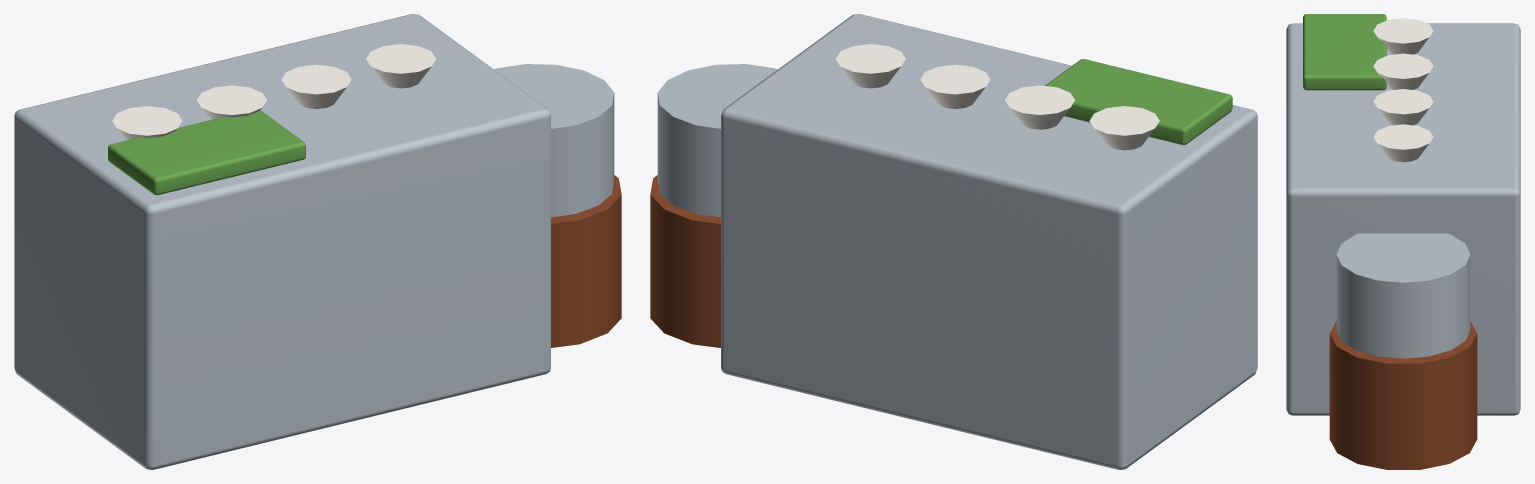
Rendered from sidewalk_kitchen.glb.
3 views of the same model, side by side, from view 1: azimuth 30°, elevation 25°; view 2: azimuth 150°, elevation 25°; view 3: azimuth 270°, elevation 25° (orthographic). The views are drawn at different scales.
Parts seen in each view (by area): view 1: Table, Pot, Tray, Stove, Bowl.002, Bowl.003, Bowl.001, Bowl; view 2: Table, Pot, Stove, Tray, Bowl, Bowl.001, Bowl.002, Bowl.003; view 3: Table, Stove, Pot, Tray, Bowl.003, Bowl.002, Bowl.001, Bowl.
Boxes of the visible parts, left/top/right/bottom form: Table: left=14, top=14, right=550, bottom=469; Pot: left=494, top=64, right=614, bottom=217; Tray: left=108, top=110, right=305, bottom=195; Stove: left=551, top=175, right=621, bottom=347; Bowl.002: left=281, top=64, right=351, bottom=108; Bowl.003: left=366, top=44, right=435, bottom=88; Bowl.001: left=197, top=85, right=266, bottom=119; Bowl: left=112, top=106, right=182, bottom=140; Table: left=721, top=14, right=1257, bottom=469; Pot: left=657, top=64, right=777, bottom=217; Stove: left=650, top=175, right=720, bottom=347; Tray: left=1045, top=59, right=1232, bottom=144; Bowl: left=1089, top=106, right=1159, bottom=150; Bowl.001: left=1005, top=85, right=1074, bottom=129; Bowl.002: left=920, top=64, right=990, bottom=108; Bowl.003: left=836, top=44, right=905, bottom=88; Table: left=1286, top=23, right=1520, bottom=415; Stove: left=1329, top=321, right=1477, bottom=469; Pot: left=1336, top=233, right=1470, bottom=358; Tray: left=1303, top=14, right=1386, bottom=90; Bowl.003: left=1373, top=124, right=1433, bottom=162; Bowl.002: left=1373, top=89, right=1433, bottom=125; Bowl.001: left=1373, top=53, right=1433, bottom=89; Bowl: left=1373, top=18, right=1433, bottom=54.
Size of the model in its own units: 1.56 by 0.81 by 0.7.
